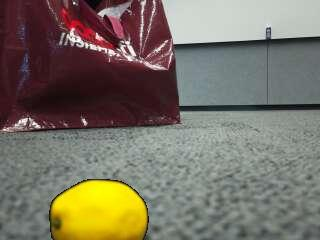lemon: (50, 180, 147, 240)
